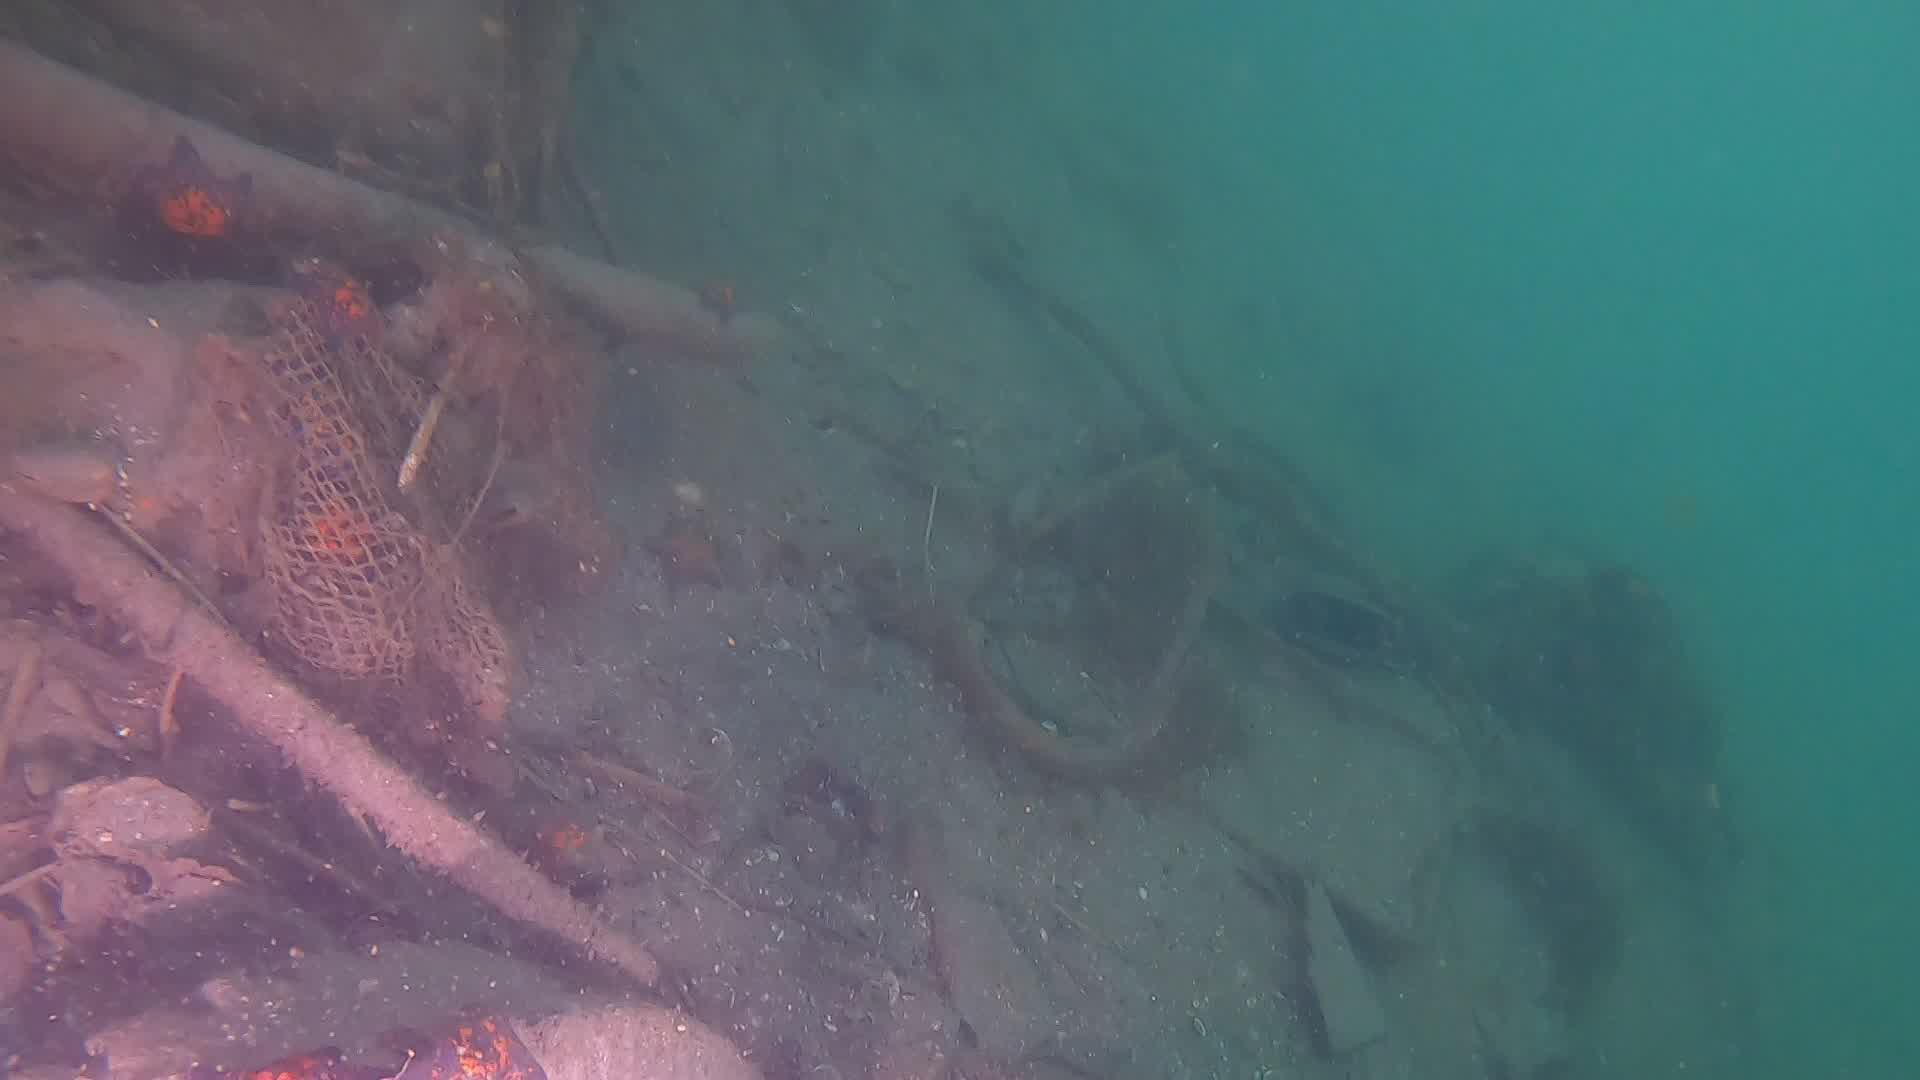fish net: (255, 291, 510, 716)
